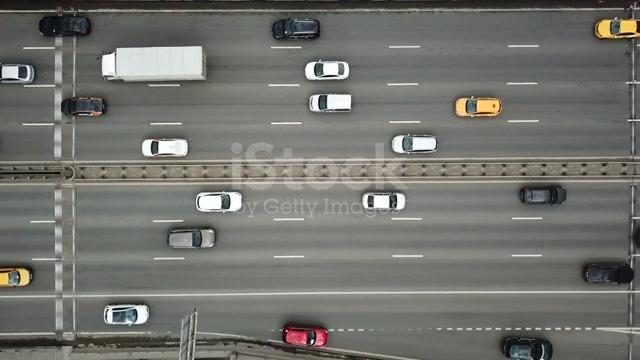Cars: (502, 336, 553, 360), (282, 324, 329, 348), (272, 18, 321, 41), (455, 96, 502, 118), (594, 18, 640, 40), (104, 304, 150, 326), (305, 60, 350, 81), (62, 96, 107, 117), (309, 94, 352, 114), (1, 63, 36, 85), (1, 267, 34, 288)
